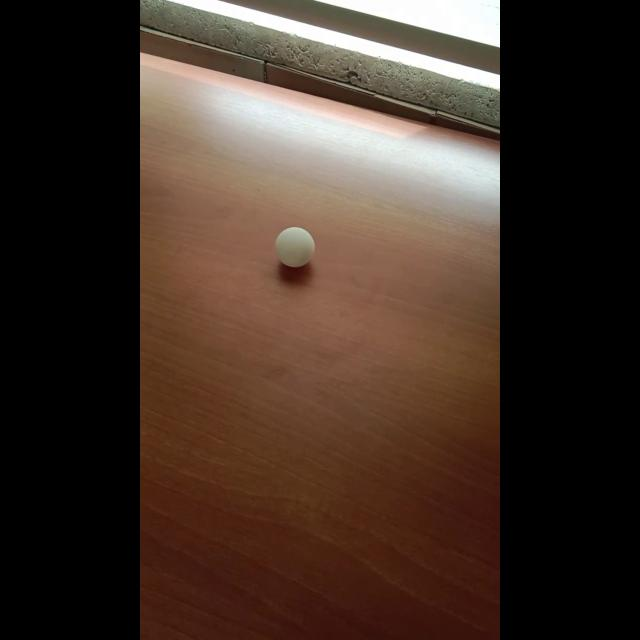white ball: (275, 226, 315, 268)
